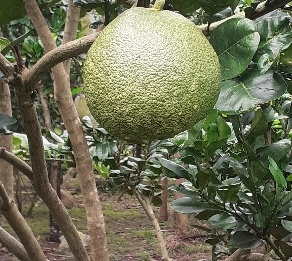Buoi: (83, 3, 223, 135)
